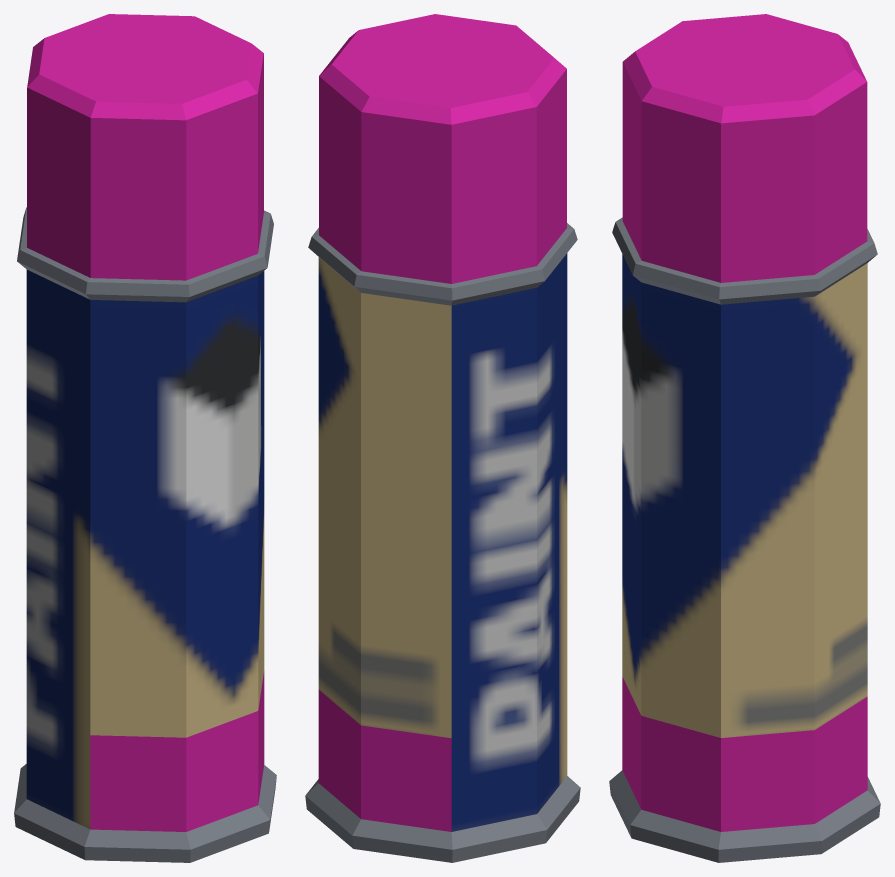
The model's file is SM_Item_SprayCan_01.fbx.
3 views of the same model, side by side, from view 1: azimuth 30°, elevation 25°; view 2: azimuth 150°, elevation 25°; view 3: azimuth 270°, elevation 25° (orthographic).
Parts seen in each view (by area): view 1: SM_Item_SprayCan_01; view 2: SM_Item_SprayCan_01; view 3: SM_Item_SprayCan_01.
Boxes of the visible parts, x1=… form: SM_Item_SprayCan_01: x1=14, y1=14, x2=276, y2=862; SM_Item_SprayCan_01: x1=305, y1=14, x2=580, y2=862; SM_Item_SprayCan_01: x1=609, y1=14, x2=880, y2=862.
Size of the model in its own units: 12.24 by 37.1 by 12.24.
